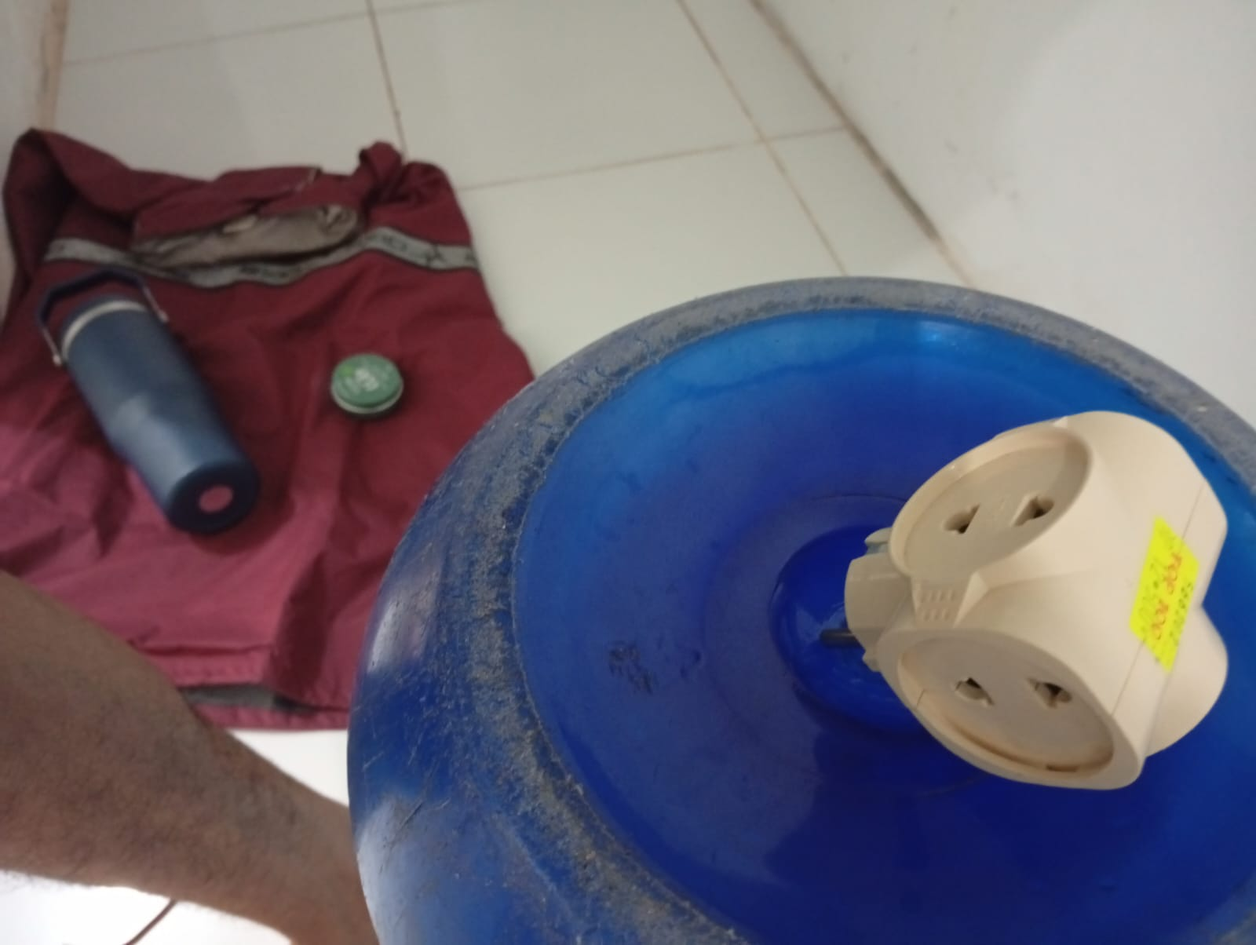Colokan: (808, 405, 1245, 831)
